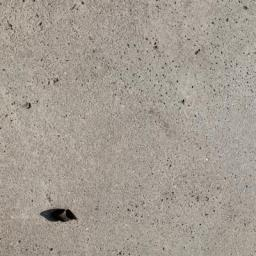FOD: (40, 204, 80, 227)
